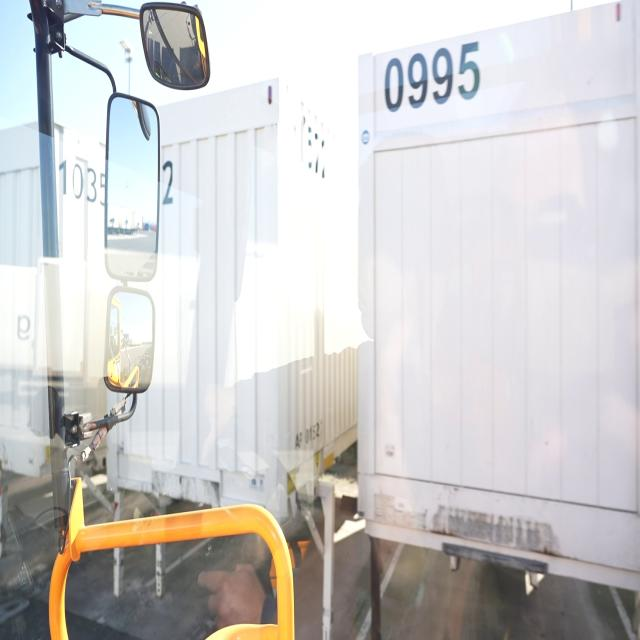Code: (381, 36, 487, 121)
